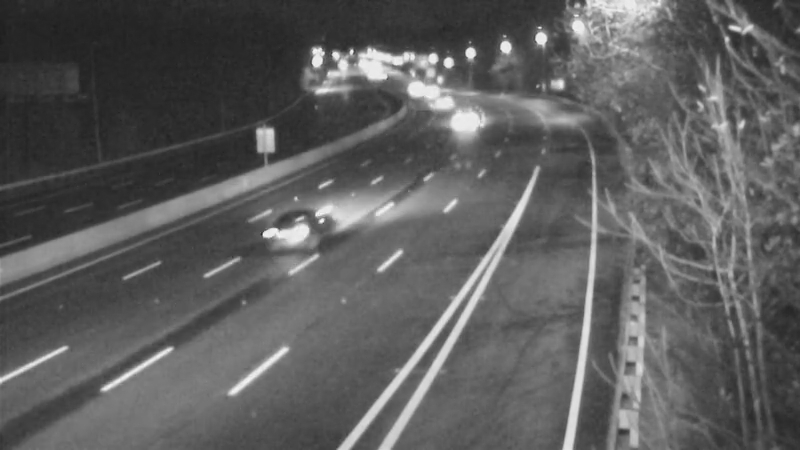vehicle: (261, 189, 341, 269), (379, 62, 429, 112), (406, 66, 456, 116), (419, 81, 469, 131), (442, 91, 492, 141)
